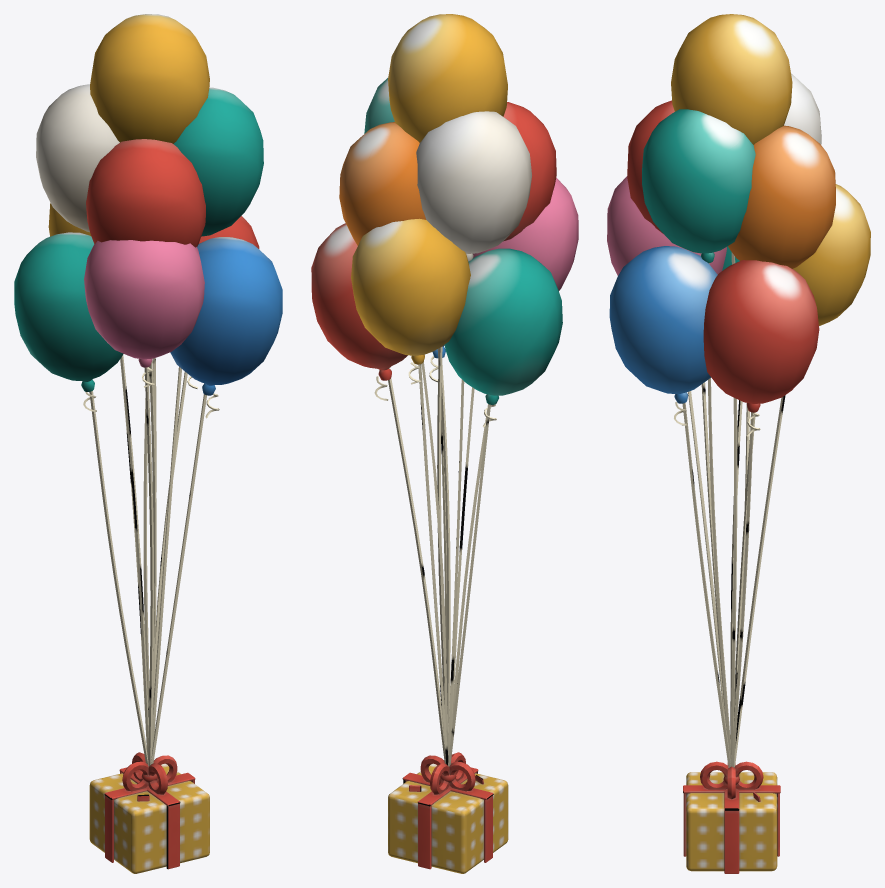
The model's file is balloons.fbx.
3 views of the same model, side by side, from view 1: azimuth 30°, elevation 25°; view 2: azimuth 150°, elevation 25°; view 3: azimuth 270°, elevation 25° (orthographic).
Parts seen in each view (by area): view 1: Body, Anim Bob.009, Anim Bob.003, Anim Bob.004, Anim Bob.007, Anim Bob.002, Anim Bob.008, Anim Bob.006, Anim Bob, Anim Bob.001; view 2: Body, Anim Bob.002, Anim Bob.001, Anim Bob.006, Anim Bob.009, Anim Bob.005, Anim Bob, Anim Bob.003, Anim Bob.007, Anim Bob.008; view 3: Body, Anim Bob, Anim Bob.008, Anim Bob.004, Anim Bob.009, Anim Bob.005, Anim Bob.001, Anim Bob.003, Anim Bob.007, Anim Bob.006.
Part boxes in pixels (box(x1,y1,x2,y2)): Body: box(89, 355, 209, 873); Anim Bob.009: box(90, 14, 209, 143); Anim Bob.003: box(84, 240, 204, 387); Anim Bob.004: box(170, 237, 282, 418); Anim Bob.007: box(86, 139, 205, 247); Anim Bob.002: box(14, 232, 123, 411); Anim Bob.008: box(173, 87, 263, 236); Anim Bob.006: box(36, 84, 119, 232); Anim Bob: box(187, 216, 259, 388); Anim Bob.001: box(48, 203, 91, 236); Body: box(388, 346, 508, 873); Anim Bob.002: box(444, 248, 562, 427); Anim Bob.001: box(351, 218, 470, 384); Anim Bob.006: box(416, 111, 531, 261); Anim Bob.009: box(388, 14, 507, 142); Anim Bob.005: box(339, 122, 426, 245); Anim Bob: box(311, 223, 407, 400); Anim Bob.003: box(473, 178, 578, 290); Anim Bob.007: box(503, 102, 556, 241); Anim Bob.008: box(364, 78, 394, 133); Body: box(682, 252, 785, 873); Anim Bob: box(703, 260, 819, 436); Anim Bob.008: box(642, 109, 755, 263); Anim Bob.004: box(609, 246, 717, 425); Anim Bob.009: box(671, 14, 792, 144); Anim Bob.005: box(728, 125, 835, 268); Anim Bob.001: box(793, 184, 870, 325); Anim Bob.003: box(607, 176, 726, 275); Anim Bob.007: box(627, 100, 674, 233); Anim Bob.006: box(784, 73, 821, 144).
Bounding box in the file's own units: 0.6525 × 2.23 × 0.6374.
